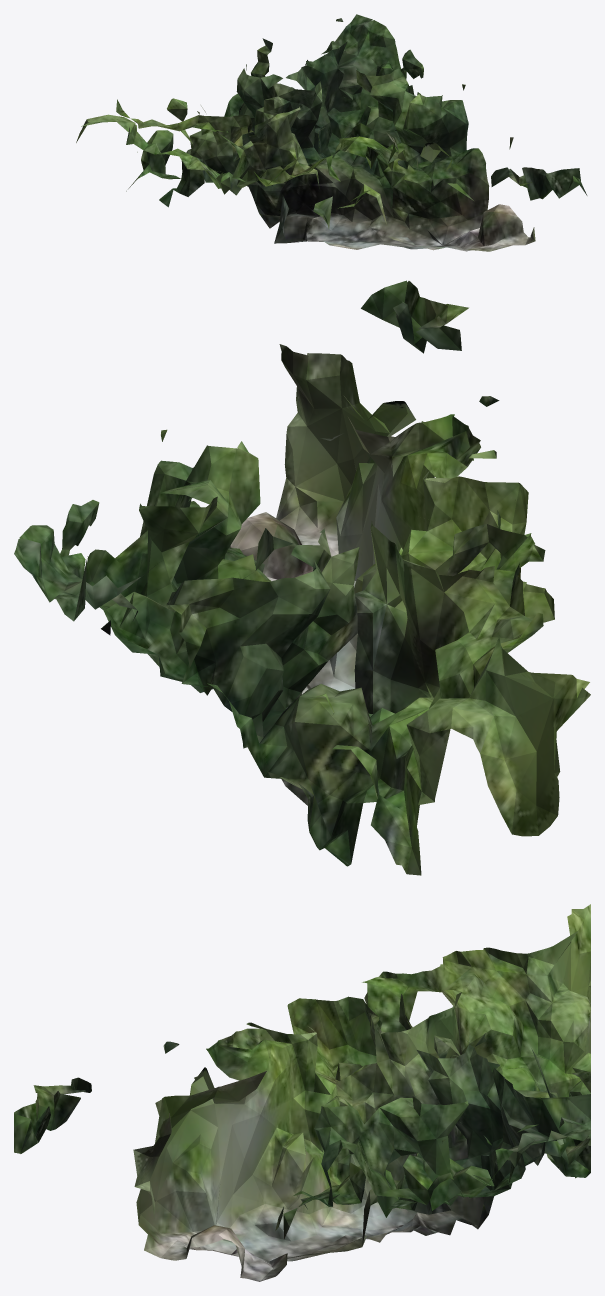
3 renders of one model, top to bottom at view 1: azimuth 30°, elevation 25°; view 2: azimuth 150°, elevation 25°; view 3: azimuth 270°, elevation 25°, orthographic. The views are drawn at different scales.
Size of the model in its own units: 47.19 by 19.64 by 52.22.
3 materials, 3 textured.
